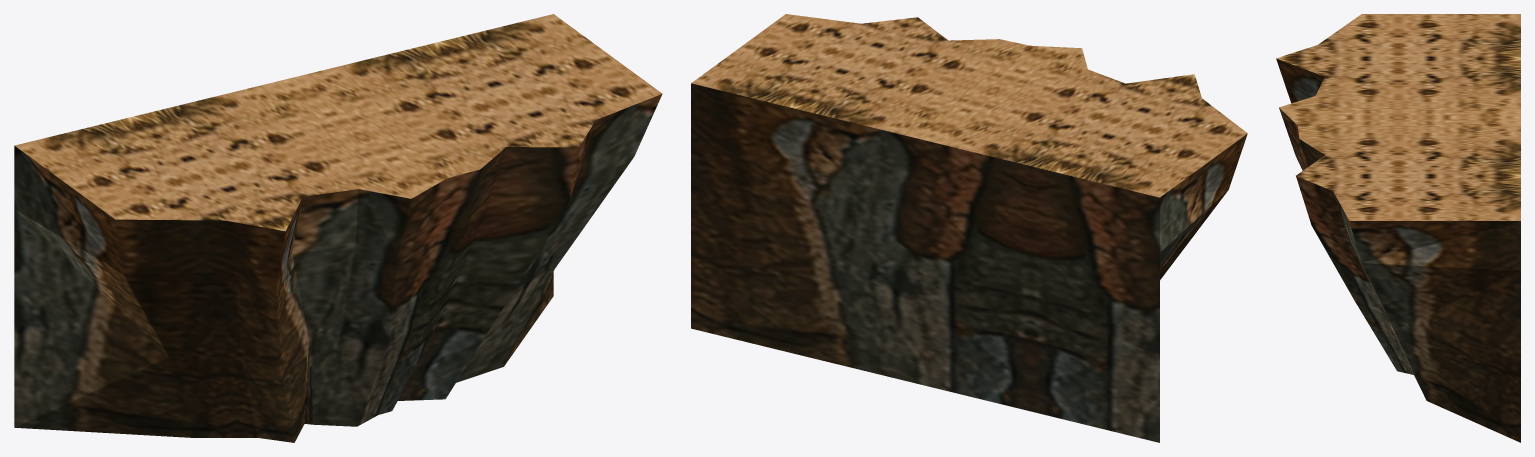
File: toad-prop-cliff-ledge.glb
3 renders of one model, left to right at view 1: azimuth 30°, elevation 25°; view 2: azimuth 150°, elevation 25°; view 3: azimuth 270°, elevation 25°, orthographic. The views are drawn at different scales.
Visible parts, largest first — view 1: cliff-ledge; view 2: cliff-ledge; view 3: cliff-ledge.
Boxes of the visible parts, x1,y1,x2,y2 form: cliff-ledge: (14,14,662,442); cliff-ledge: (691,14,1247,442); cliff-ledge: (1276,14,1520,442).
Size of the model in its own units: 0.16 by 0.08 by 0.08.
Materials: 1 (1 with a texture image).
